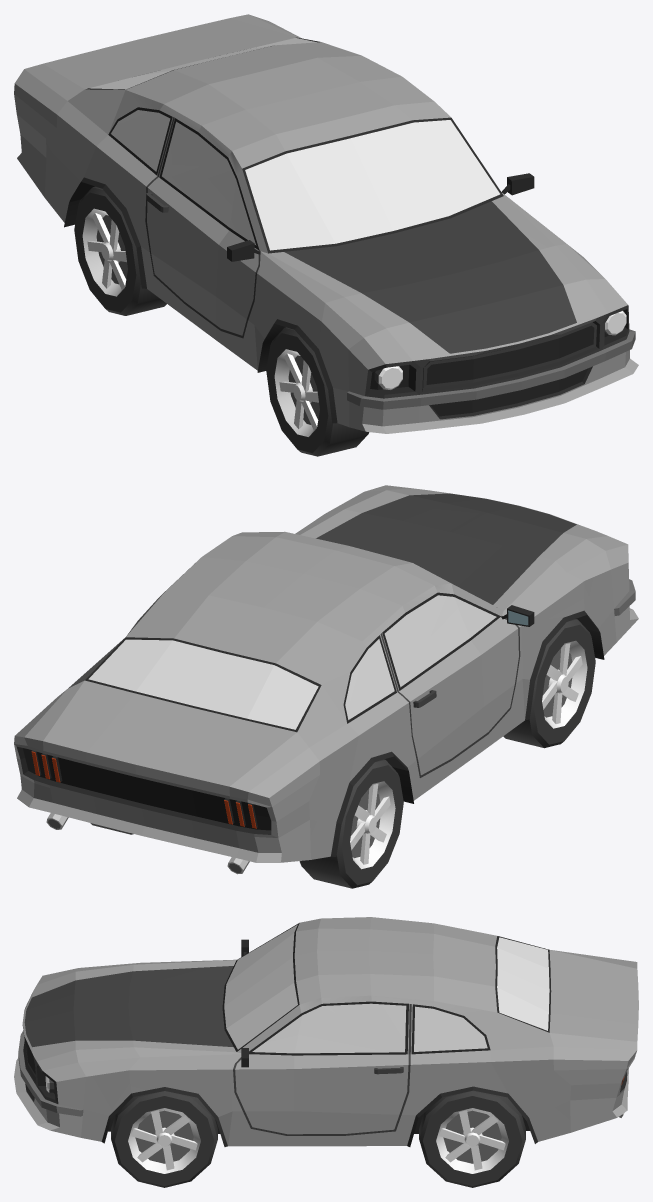
Rendered from N_Muscle Car_2.fbx.
3 renders of one model, top to bottom at view 1: azimuth 30°, elevation 25°; view 2: azimuth 150°, elevation 25°; view 3: azimuth 270°, elevation 25°, orthographic. The views are drawn at different scales.
Parts seen in each view (by area): view 1: N_Muscle Car_2 Lod_0, N_Muscle Car_2 R Door, N_Muscle Car_2 FR Tire, N_Muscle Car_2 BR Tire; view 2: N_Muscle Car_2 Lod_0, N_Muscle Car_2 R Door, N_Muscle Car_2 BR Tire, N_Muscle Car_2 FR Tire; view 3: N_Muscle Car_2 Lod_0, N_Muscle Car_2 L Door, N_Muscle Car_2 BL Tire, N_Muscle Car_2 FL Tire.
Boxes of the visible parts, x1,y1,x2,y2 form: N_Muscle Car_2 Lod_0: (14, 14, 638, 433); N_Muscle Car_2 R Door: (145, 117, 260, 338); N_Muscle Car_2 FR Tire: (266, 327, 369, 456); N_Muscle Car_2 BR Tire: (74, 186, 166, 315); N_Muscle Car_2 Lod_0: (14, 485, 638, 874); N_Muscle Car_2 R Door: (380, 592, 534, 777); N_Muscle Car_2 BR Tire: (299, 759, 403, 888); N_Muscle Car_2 FR Tire: (503, 619, 595, 748); N_Muscle Car_2 Lod_0: (14, 917, 638, 1146); N_Muscle Car_2 L Door: (233, 1001, 411, 1135); N_Muscle Car_2 BL Tire: (419, 1090, 525, 1187); N_Muscle Car_2 FL Tire: (111, 1091, 217, 1187).
Size of what is drawn, in the model's own units: 2.05 by 1.5 by 4.58.
